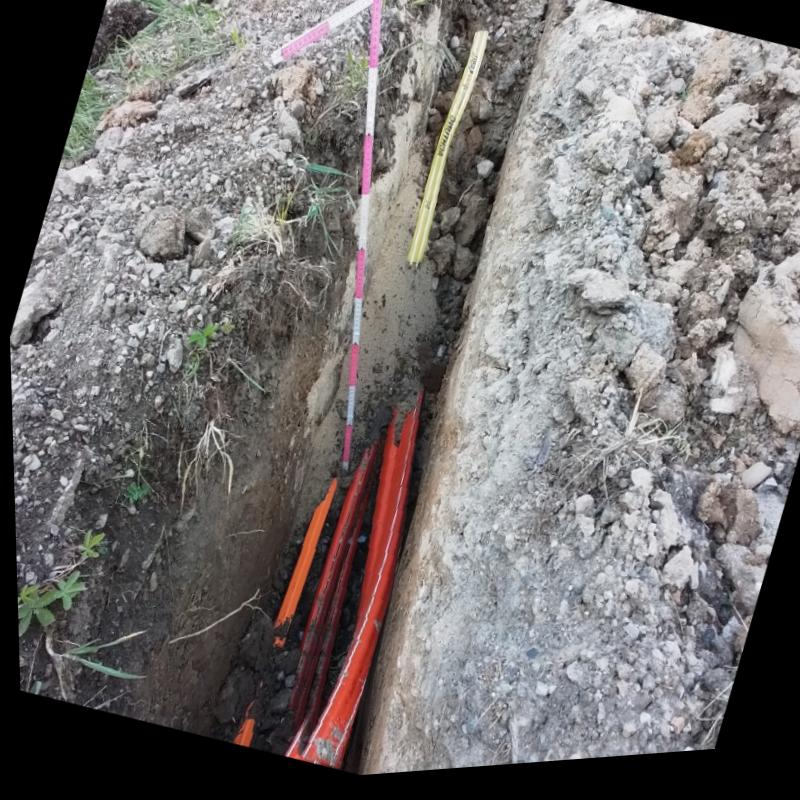Orang-Speednetrohrchen: (288, 415, 415, 774), (293, 449, 371, 716), (268, 489, 333, 649)
